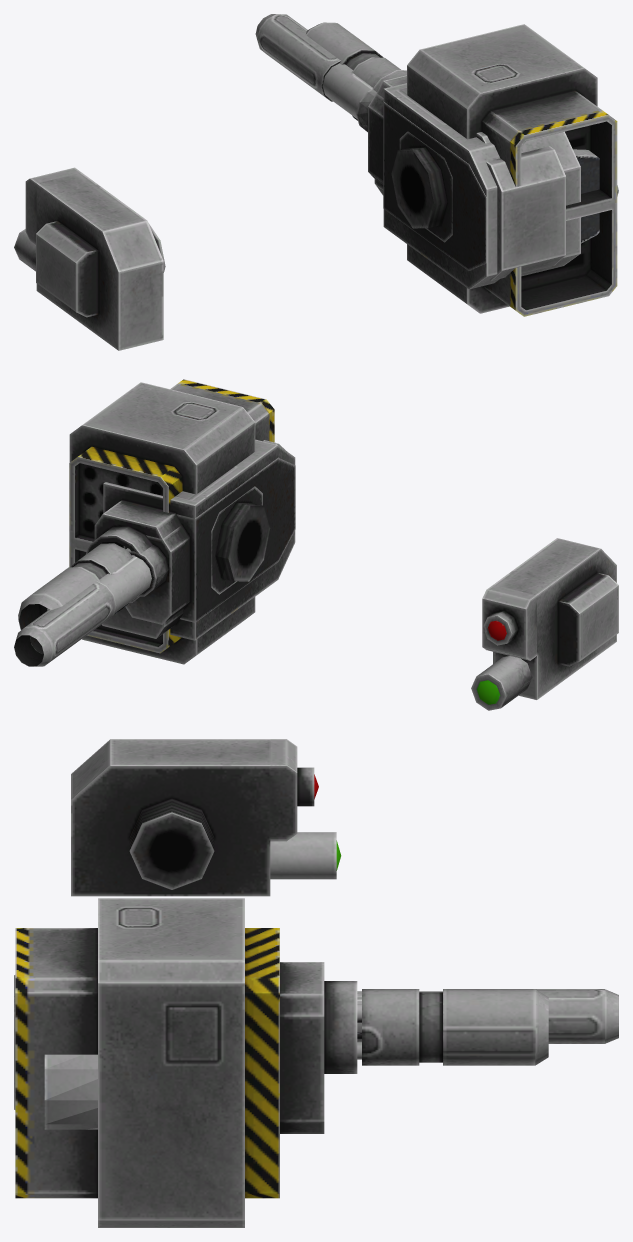
The model's file is Urbie_Arms.FBX.
The picture shows the model from 3 angles, top to bottom: view 1: azimuth 30°, elevation 25°; view 2: azimuth 150°, elevation 25°; view 3: azimuth 270°, elevation 25°; orthographic projection. The views are drawn at different scales.
Visible parts, largest first — view 1: rupperarm r68, lupperarm, rupperarm r70, rupperarm r60l, rupperarm, barrel_1 lbx10, barrel_1, barrel ac10, mlaser; view 2: rupperarm r68, lupperarm, rupperarm, rupperarm r60l, barrel_1 lbx10, barrel_1, mlaser, barrel ac10, rupperarm r70; view 3: rupperarm r68, lupperarm, barrel_1, rupperarm r60l, rupperarm r70, barrel_1 lbx10, mlaser.
Boxes of the visible parts, x1,y1,x2,y2 form: rupperarm r68: (391, 24, 617, 316); lupperarm: (25, 167, 165, 350); rupperarm r70: (399, 131, 618, 280); rupperarm r60l: (372, 70, 580, 289); rupperarm: (356, 89, 486, 270); barrel_1 lbx10: (255, 14, 340, 101); barrel_1: (306, 22, 400, 87); barrel ac10: (322, 63, 372, 118); mlaser: (14, 229, 35, 271); rupperarm r68: (69, 379, 274, 664); lupperarm: (482, 538, 618, 699); rupperarm: (123, 457, 295, 624); rupperarm r60l: (85, 439, 295, 640); barrel_1 lbx10: (14, 581, 116, 666); barrel_1: (18, 543, 133, 629); mlaser: (471, 656, 532, 710); barrel ac10: (30, 555, 151, 654); rupperarm r70: (211, 440, 285, 594); rupperarm r68: (15, 898, 279, 1227); lupperarm: (71, 739, 318, 896); barrel_1: (362, 989, 548, 1065); rupperarm r60l: (280, 962, 357, 1133); rupperarm r70: (14, 975, 361, 1129); barrel_1 lbx10: (535, 989, 618, 1043); mlaser: (270, 832, 341, 879).
Size of the model in its own units: 41.38 by 16.97 by 34.82.
1 material, 1 textured.
